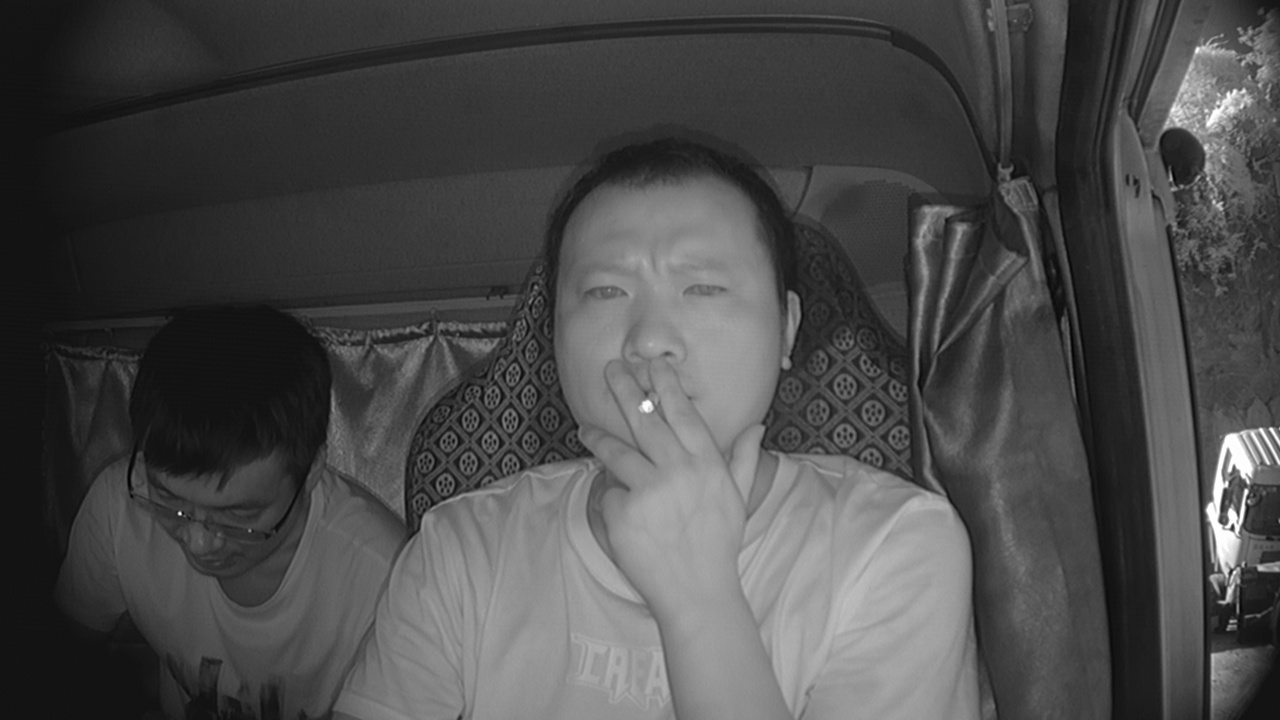hand: (583, 360, 773, 574)
